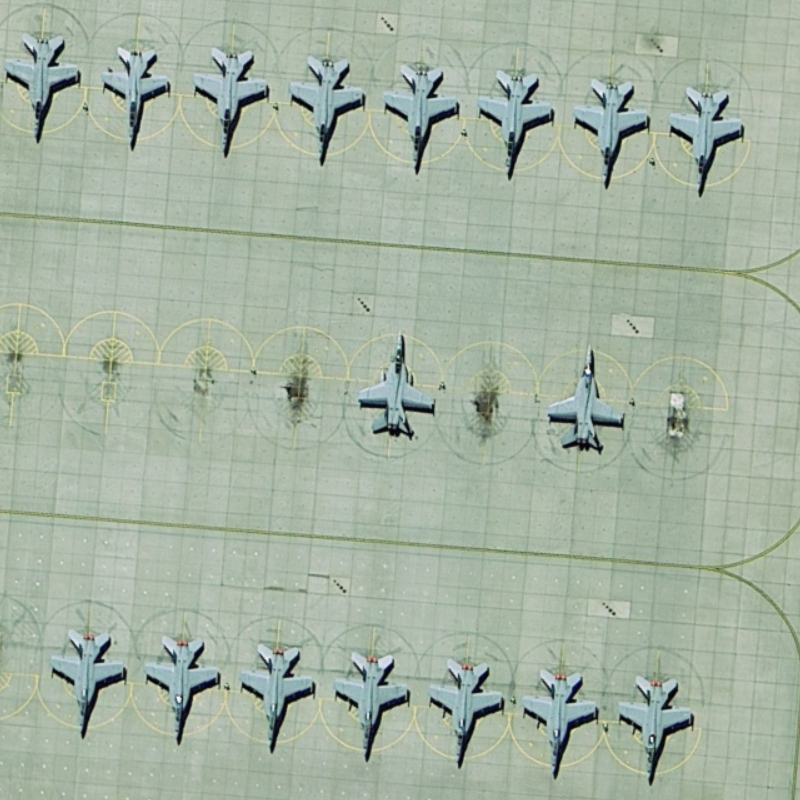A16: (566, 73, 658, 193), (473, 63, 556, 184), (189, 42, 272, 163), (379, 61, 463, 178), (663, 83, 749, 197), (285, 53, 368, 171), (1, 29, 84, 147), (614, 671, 697, 788), (329, 649, 412, 765), (425, 653, 506, 771), (519, 666, 601, 782), (140, 632, 222, 748), (48, 625, 129, 742), (238, 641, 318, 759), (355, 327, 438, 440), (544, 341, 627, 453), (99, 41, 175, 148)
